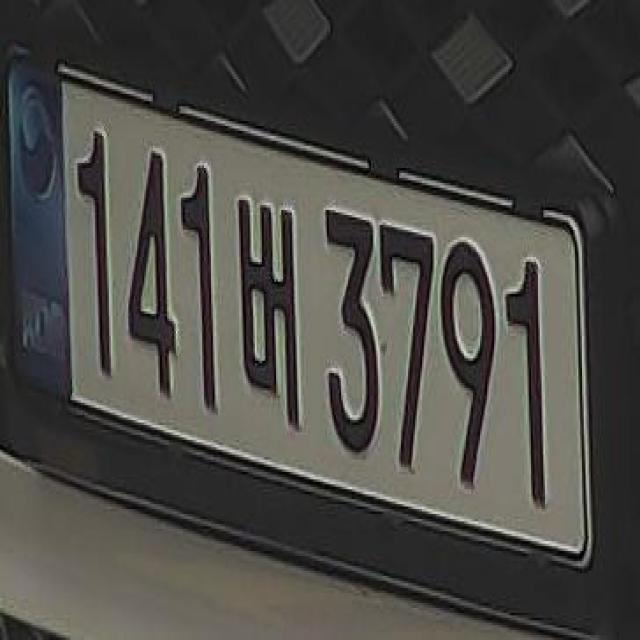illegal_plate: (2, 69, 604, 592)
